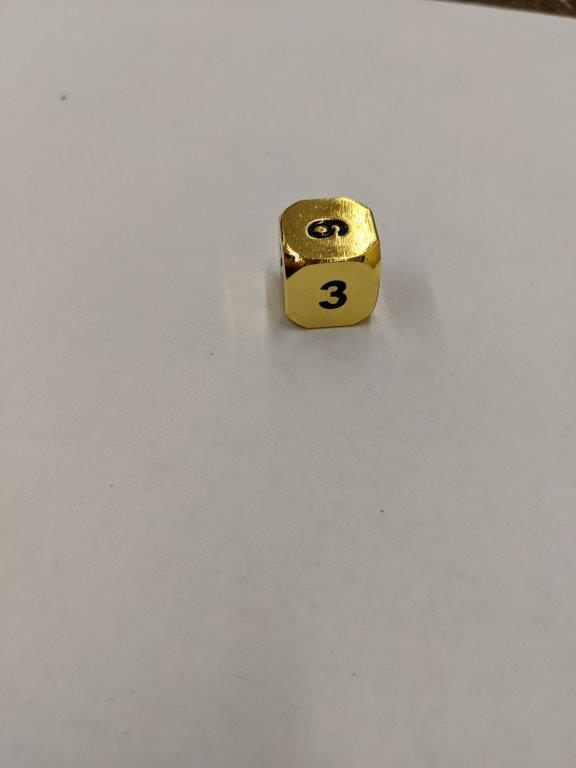d6-6: (279, 196, 381, 334)
